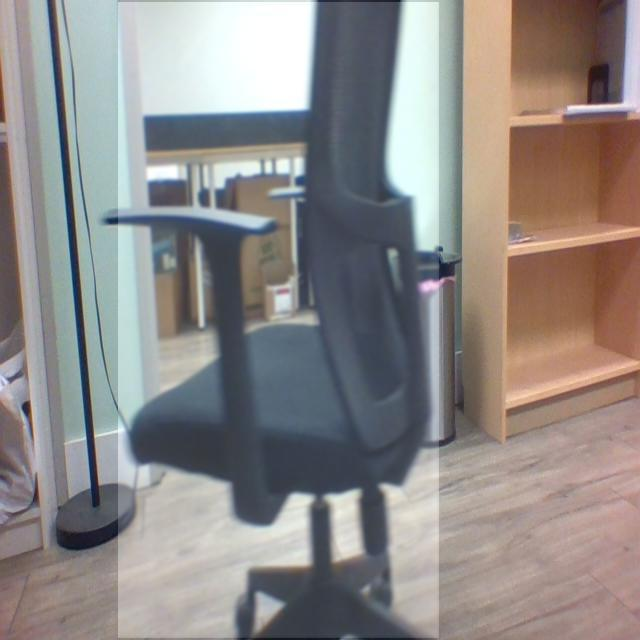chair: (119, 0, 436, 640)
